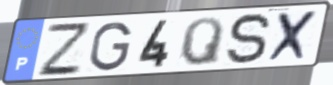4: (136, 18, 171, 69)
G: (87, 20, 134, 73)
Q: (178, 15, 226, 67)
S: (224, 11, 273, 67)
X: (265, 9, 323, 64)
Z: (37, 22, 91, 78)
